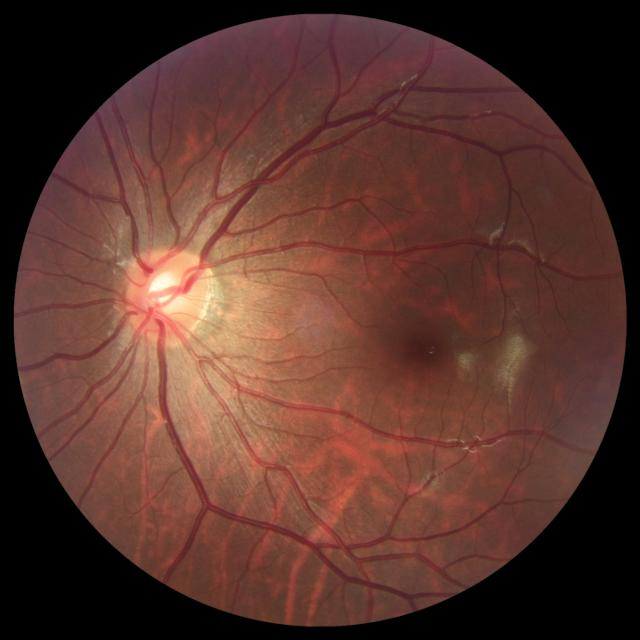OC: (146, 270, 185, 312)
OD: (123, 246, 209, 345)
